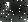person: (6, 4, 12, 16)
